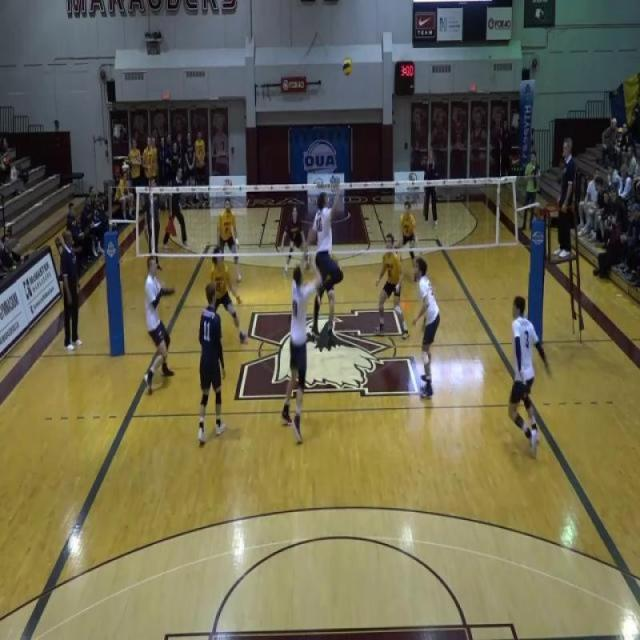volleyball: (342, 55, 354, 78)
